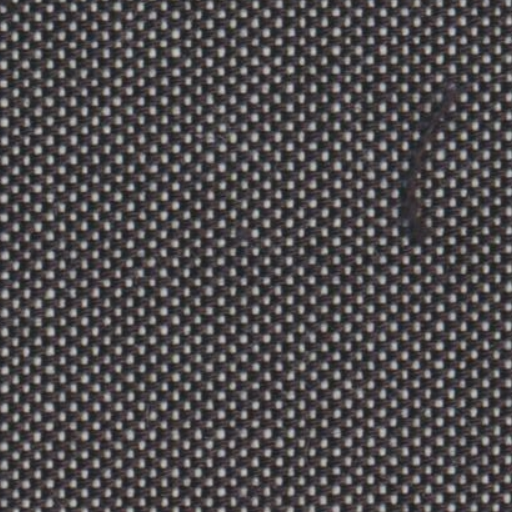DuanSha: (388, 66, 476, 248)
